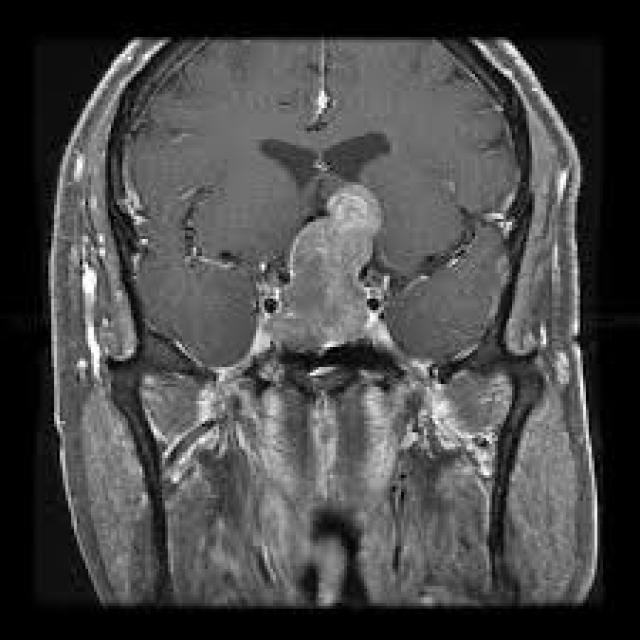brain_tumor: (267, 179, 381, 353)
